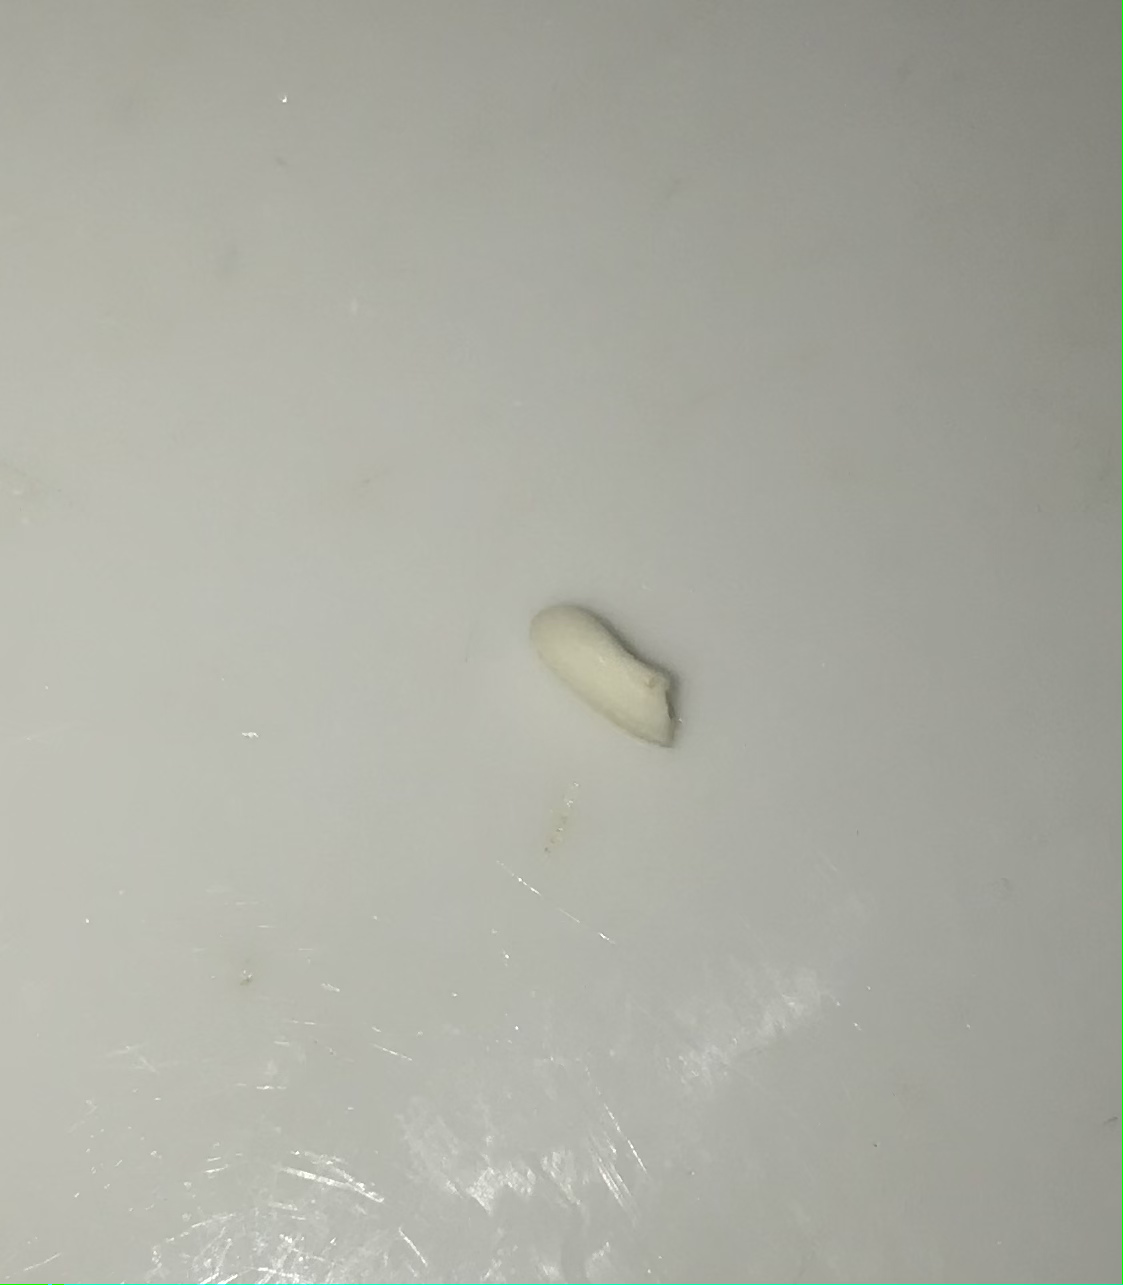Gao Nep Sap: (512, 552, 709, 773)
